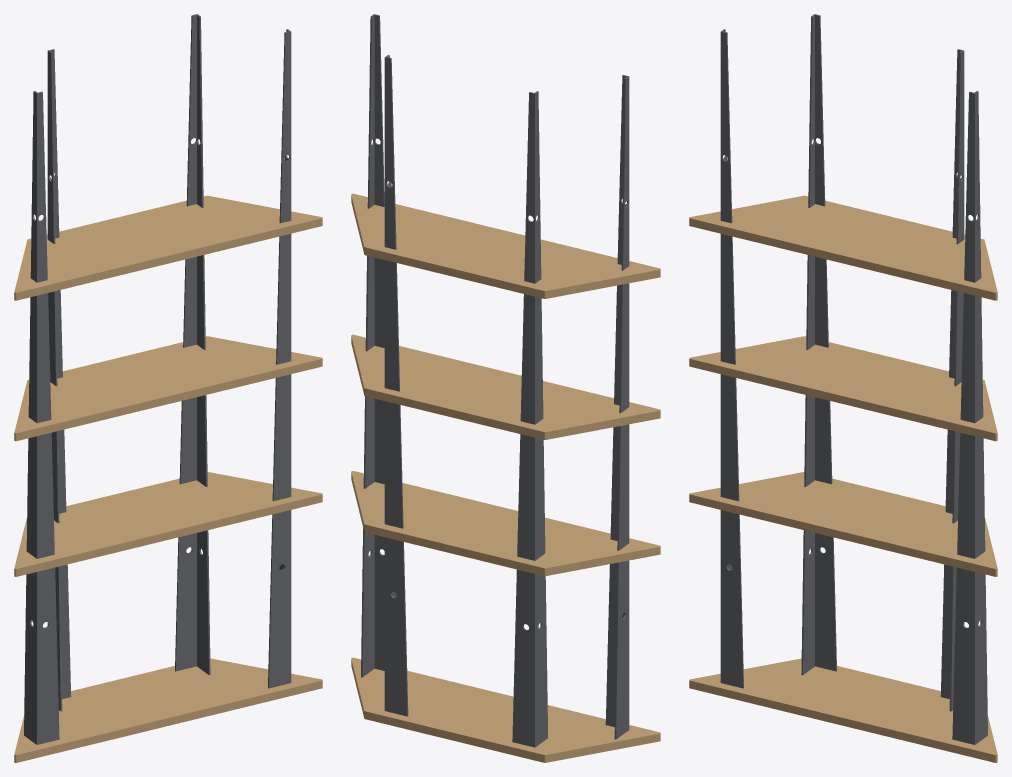
The model's file is mies.glb.
The picture shows the model from 3 angles, left to right: view 1: azimuth 30°, elevation 25°; view 2: azimuth 150°, elevation 25°; view 3: azimuth 330°, elevation 25°; orthographic projection.
Parts seen in each view (by area): view 1: Part1.1_4, balda_superior_7, balda_media_6, Part2.1_0, base.1_5, Part1.4_1, Part1.2_3, Part1.3_2; view 2: Part1.3_2, balda_superior_7, balda_media_6, Part2.1_0, base.1_5, Part1.4_1, Part1.1_4, Part1.2_3; view 3: Part1.2_3, balda_superior_7, balda_media_6, Part2.1_0, base.1_5, Part1.3_2, Part1.1_4, Part1.4_1.
Part boxes in pixels (left/top/right/bottom): Part1.1_4: left=24, top=91, right=59, bottom=744; balda_superior_7: left=14, top=195, right=322, bottom=300; balda_media_6: left=14, top=336, right=322, bottom=441; Part2.1_0: left=14, top=472, right=322, bottom=576; base.1_5: left=14, top=658, right=322, bottom=762; Part1.4_1: left=175, top=14, right=210, bottom=675; Part1.2_3: left=268, top=29, right=291, bottom=688; Part1.3_2: left=47, top=49, right=71, bottom=711; Part1.3_2: left=512, top=91, right=548, bottom=747; balda_superior_7: left=351, top=193, right=660, bottom=298; balda_media_6: left=351, top=334, right=660, bottom=439; Part2.1_0: left=351, top=471, right=660, bottom=576; base.1_5: left=351, top=657, right=660, bottom=762; Part1.4_1: left=384, top=55, right=408, bottom=716; Part1.1_4: left=605, top=75, right=629, bottom=739; Part1.2_3: left=361, top=14, right=384, bottom=677; Part1.2_3: left=952, top=91, right=987, bottom=744; balda_superior_7: left=689, top=195, right=997, bottom=300; balda_media_6: left=689, top=336, right=997, bottom=441; Part2.1_0: left=689, top=472, right=997, bottom=576; base.1_5: left=689, top=658, right=997, bottom=762; Part1.3_2: left=801, top=14, right=836, bottom=675; Part1.1_4: left=720, top=29, right=743, bottom=688; Part1.4_1: left=940, top=49, right=964, bottom=711.
Bounding box in the file's own units: 1.03 × 2.1 × 0.3.
